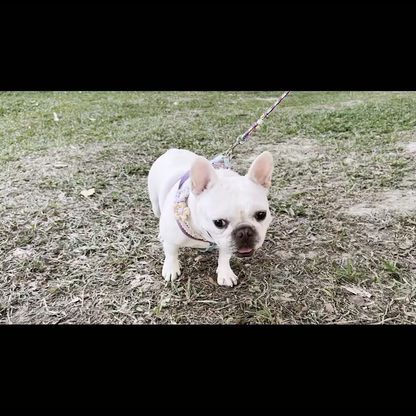bulldog: (147, 143, 275, 288)
